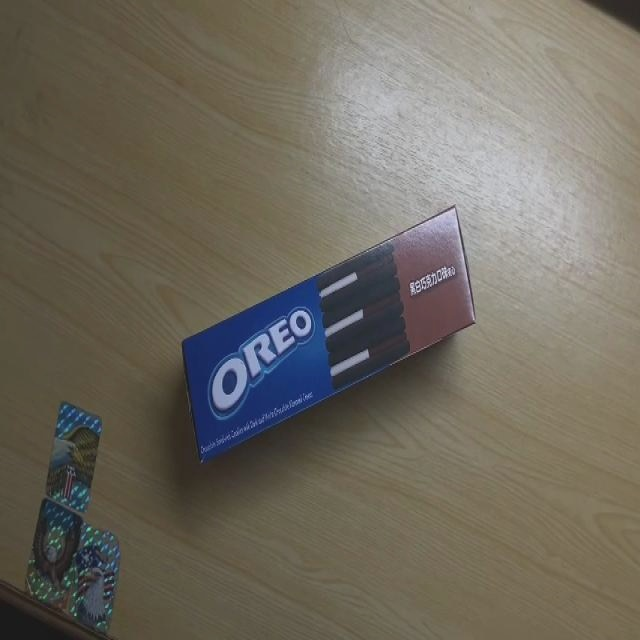Oreo: (178, 205, 476, 472)
